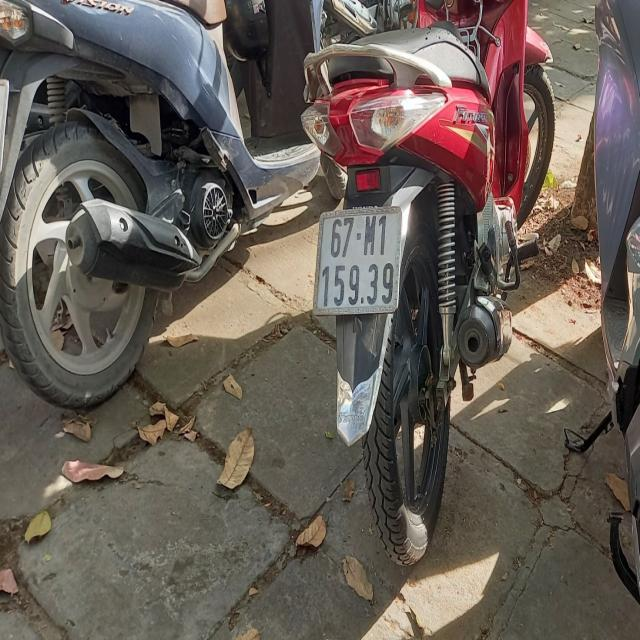1: (322, 266, 330, 308), (379, 215, 386, 255)
3: (368, 264, 378, 305)
5: (334, 264, 345, 306)
6: (332, 218, 342, 258)
7: (342, 218, 353, 256)
9: (382, 262, 394, 304), (349, 263, 359, 306)
M: (363, 216, 376, 256)
